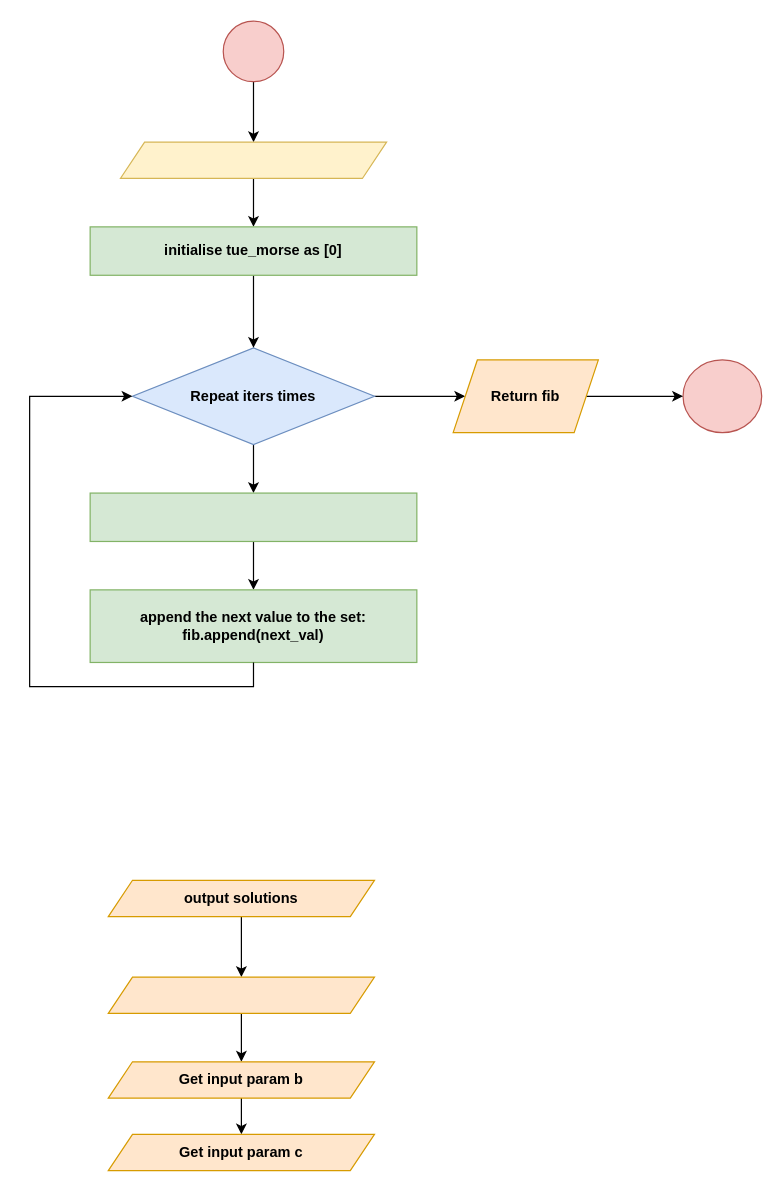
The diagram is 783 pixels wide and 1192 high, and some of its shapes have lost their labels. Here are the shapes that lost their labels. From the top down, the centre of each, then its label:
At (253,159): "Get input iters".
At (253,516): "Calculate the next value as negative of last value: next_val = tue_morse[-1]".
At (240,994): "Get input param a".
